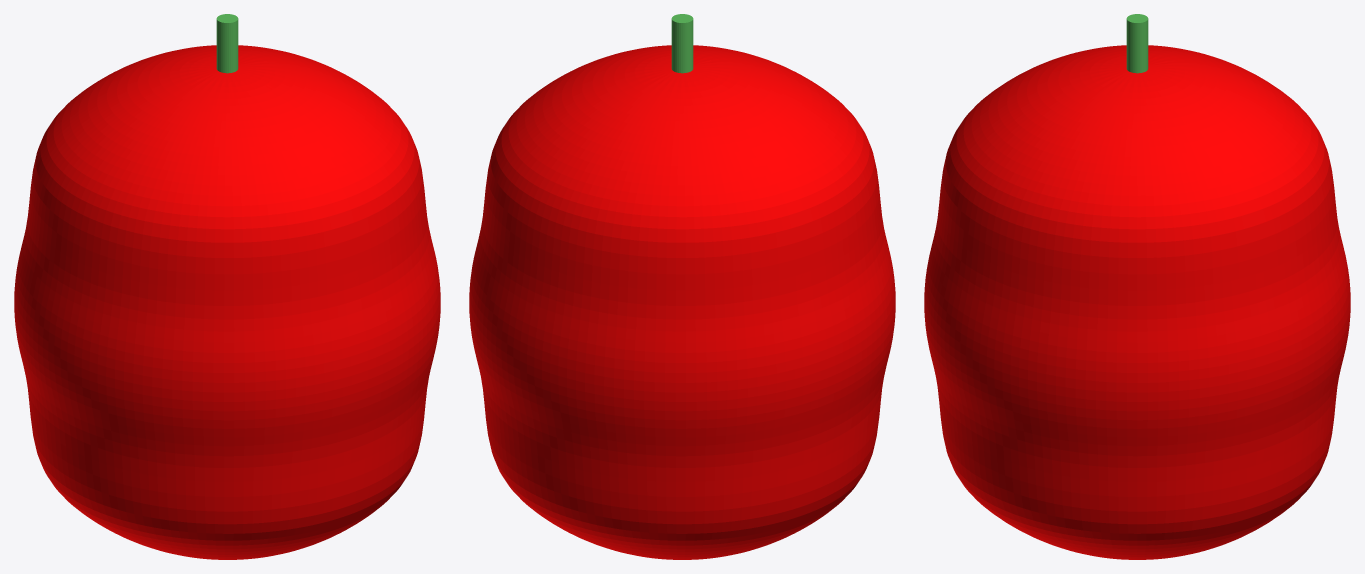
The model's file is tomato.glb.
3 renders of one model, left to right at view 1: azimuth 30°, elevation 25°; view 2: azimuth 150°, elevation 25°; view 3: azimuth 270°, elevation 25°, orthographic.
Parts seen in each view (by area): view 1: Tomato; view 2: Tomato; view 3: Tomato.
Part boxes in pixels (<box>): Tomato: <box>14,14,440,559</box>; Tomato: <box>469,14,895,559</box>; Tomato: <box>924,14,1350,559</box>.
Bounding box in the file's own units: 1.97 × 2.65 × 1.97.
